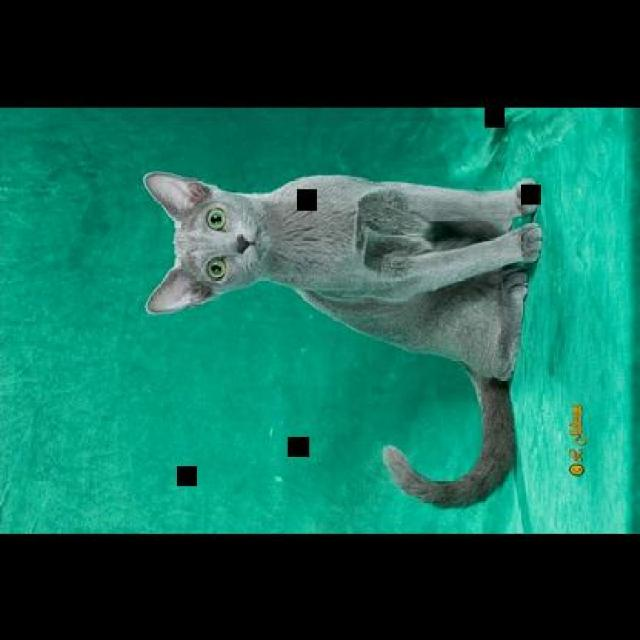unauthorized: (140, 169, 543, 509)
